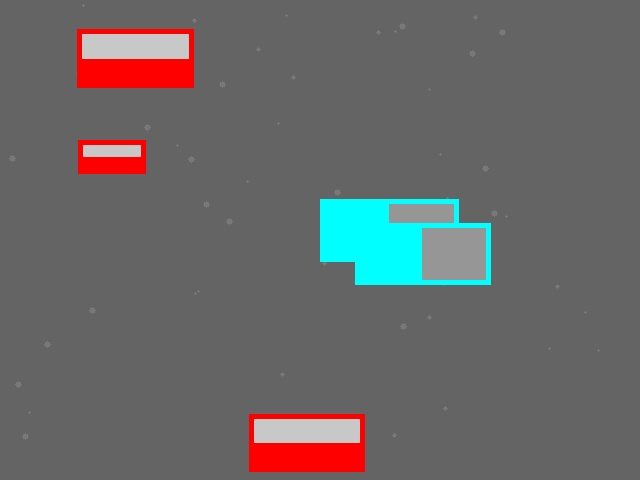car: (77, 29, 193, 87), (249, 414, 364, 471), (78, 140, 145, 173)
truck: (320, 199, 458, 261), (355, 223, 490, 284)
